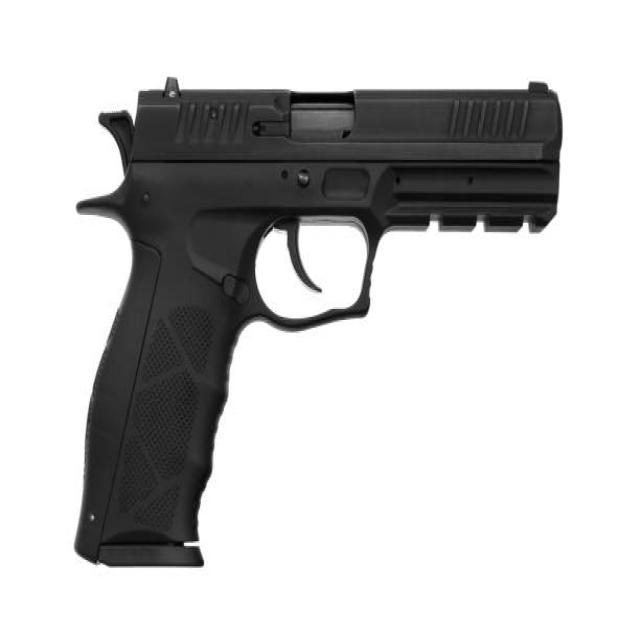pistol: (60, 71, 565, 582)
